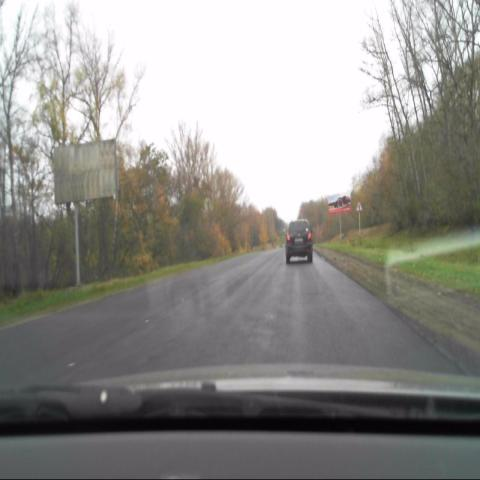2_3_3: (355, 200, 363, 213)
